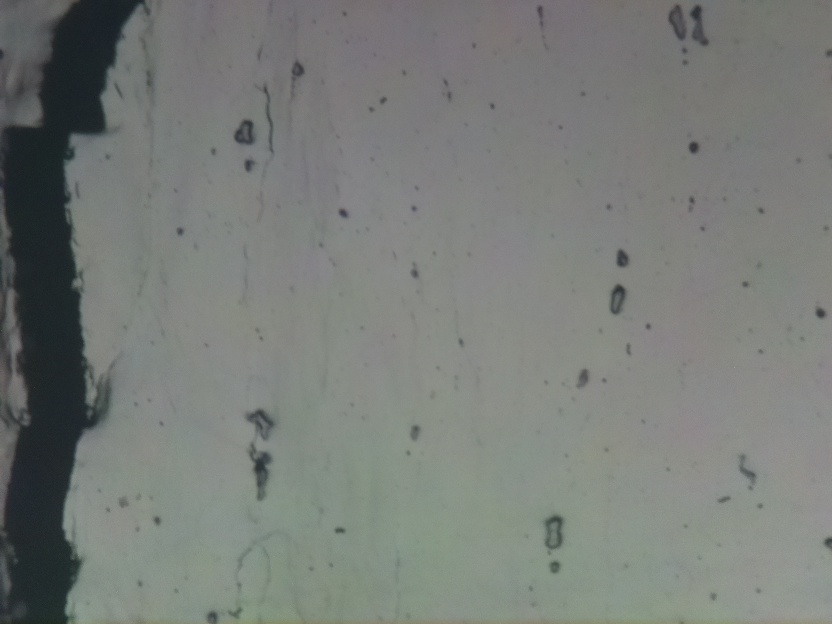crack: (0, 0, 138, 624)
